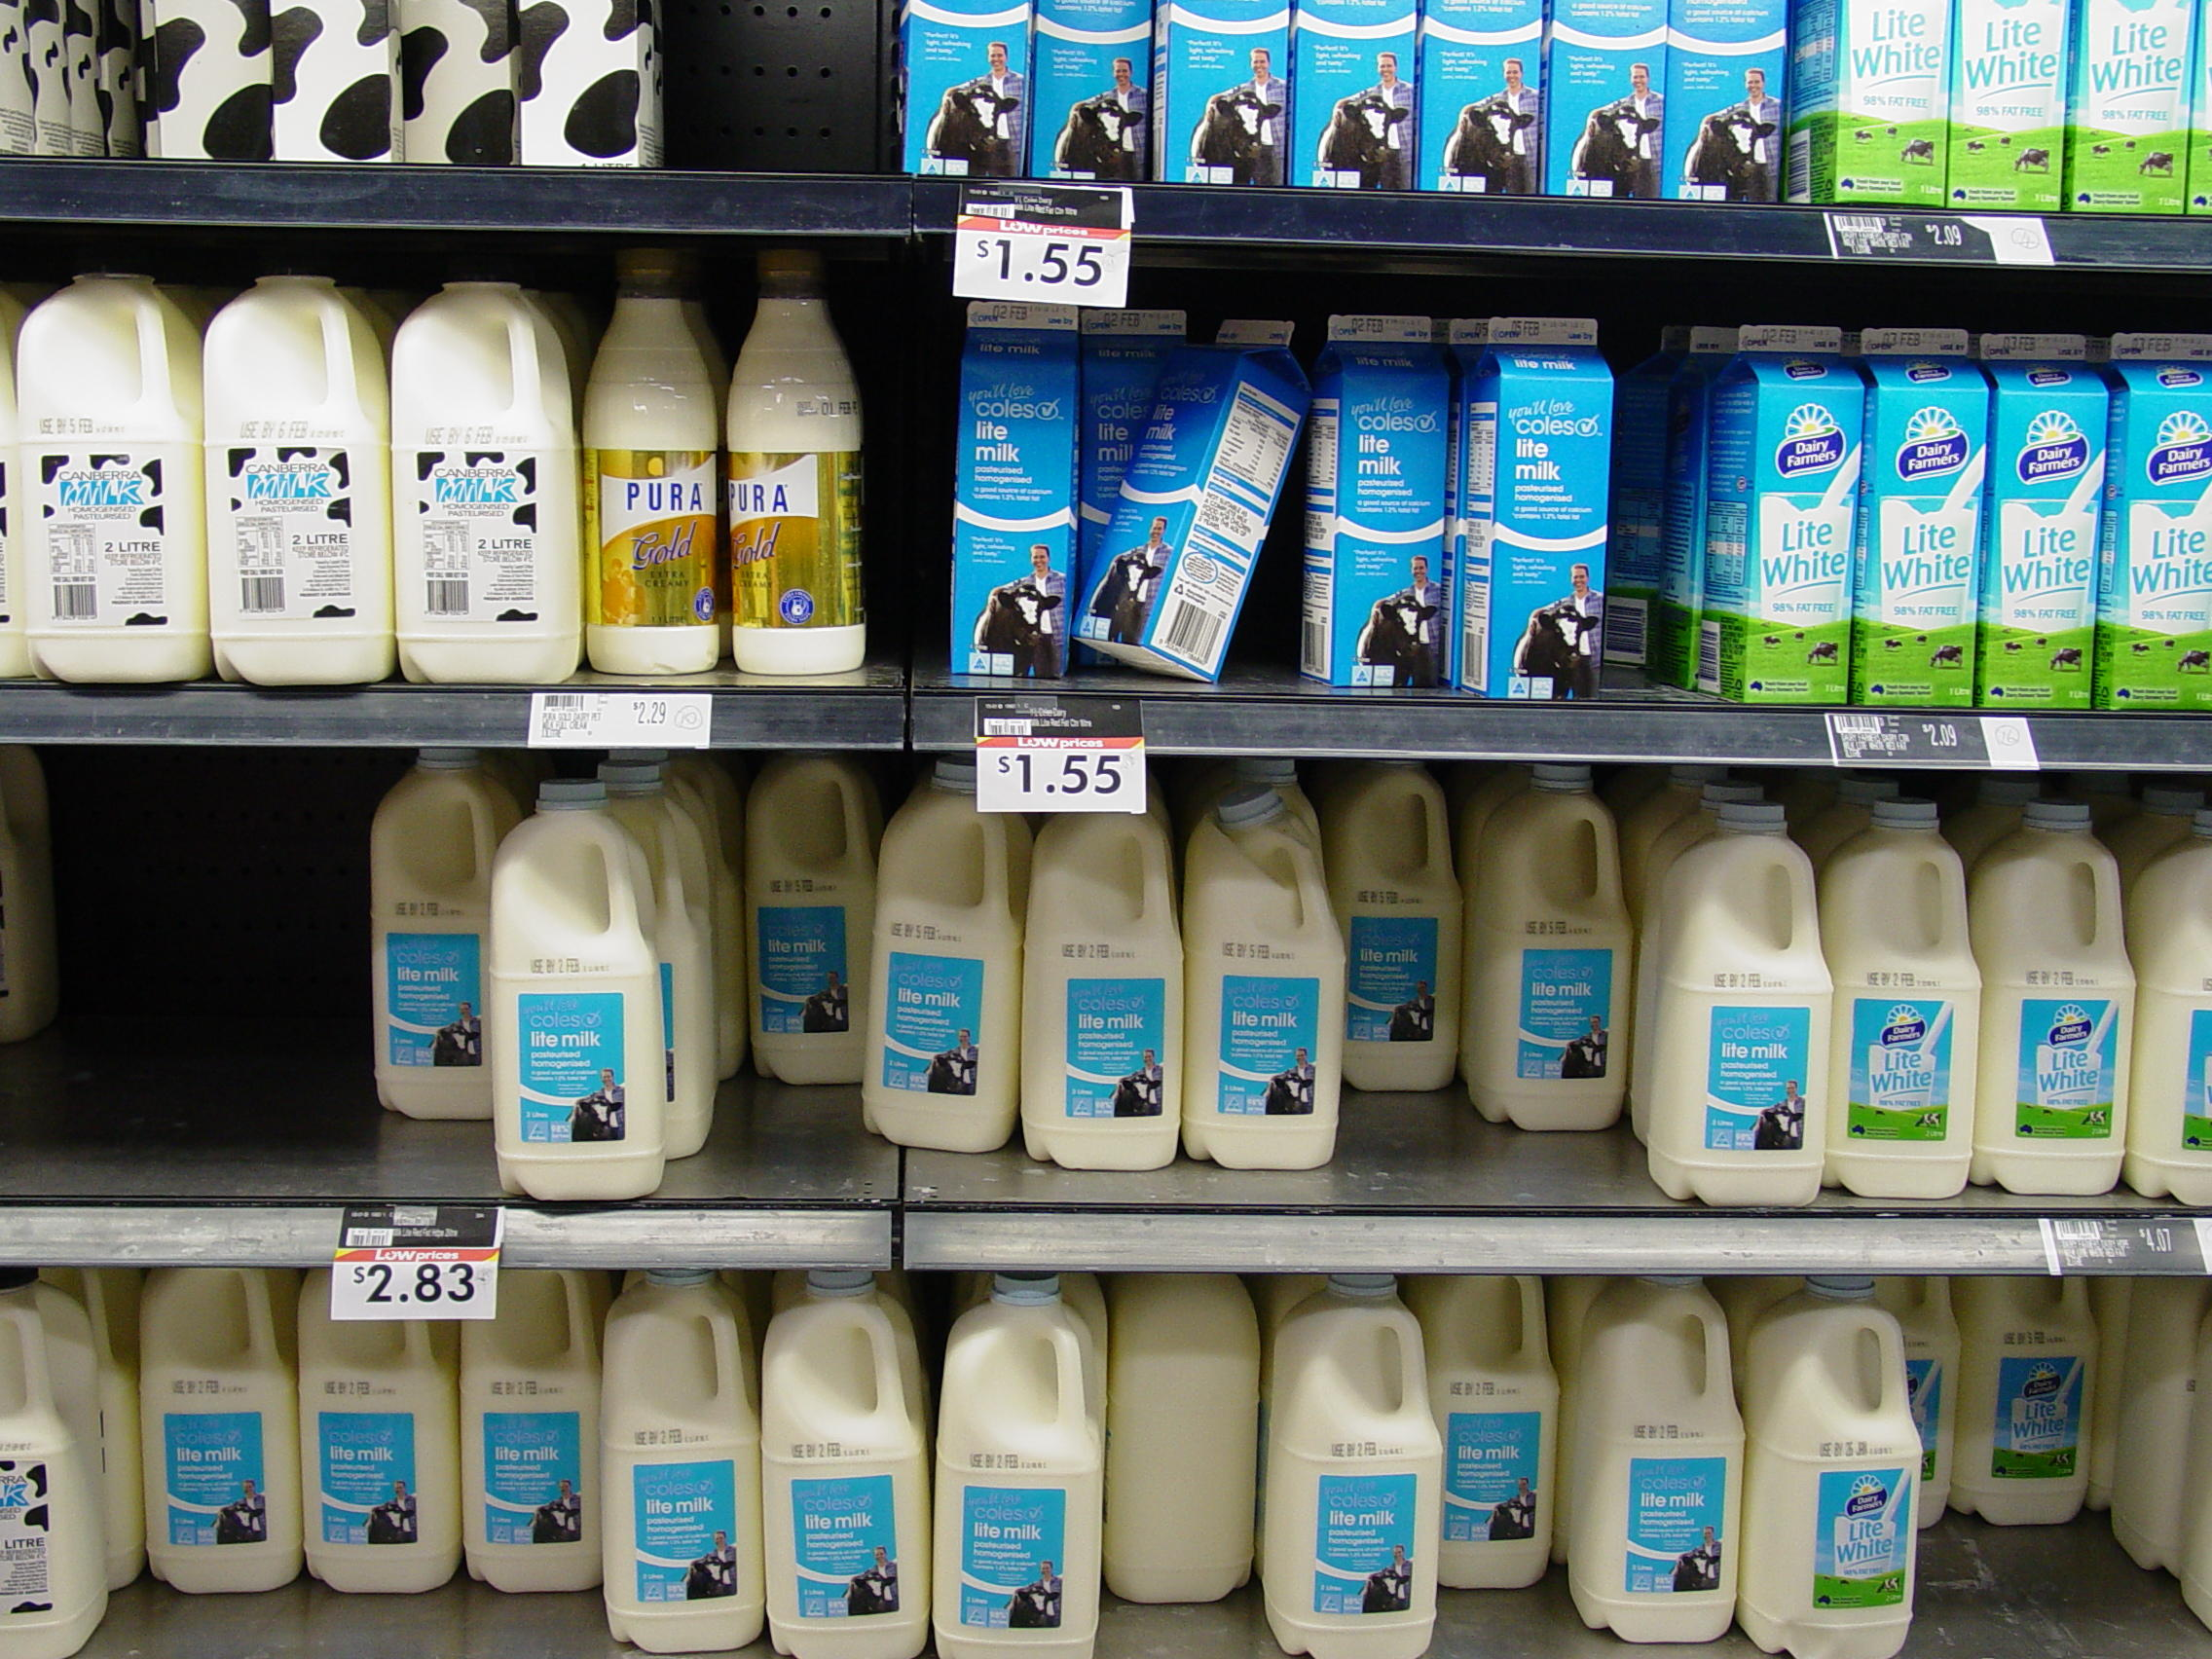Misplacement: (99, 1265, 599, 1650), (1313, 777, 1623, 1199), (580, 244, 848, 681), (622, 767, 885, 1195), (1907, 1277, 2189, 1654), (1075, 307, 1299, 690), (1101, 1263, 1271, 1659), (1433, 1284, 1590, 1640)
Out-of-stock: (31, 760, 362, 1183)
